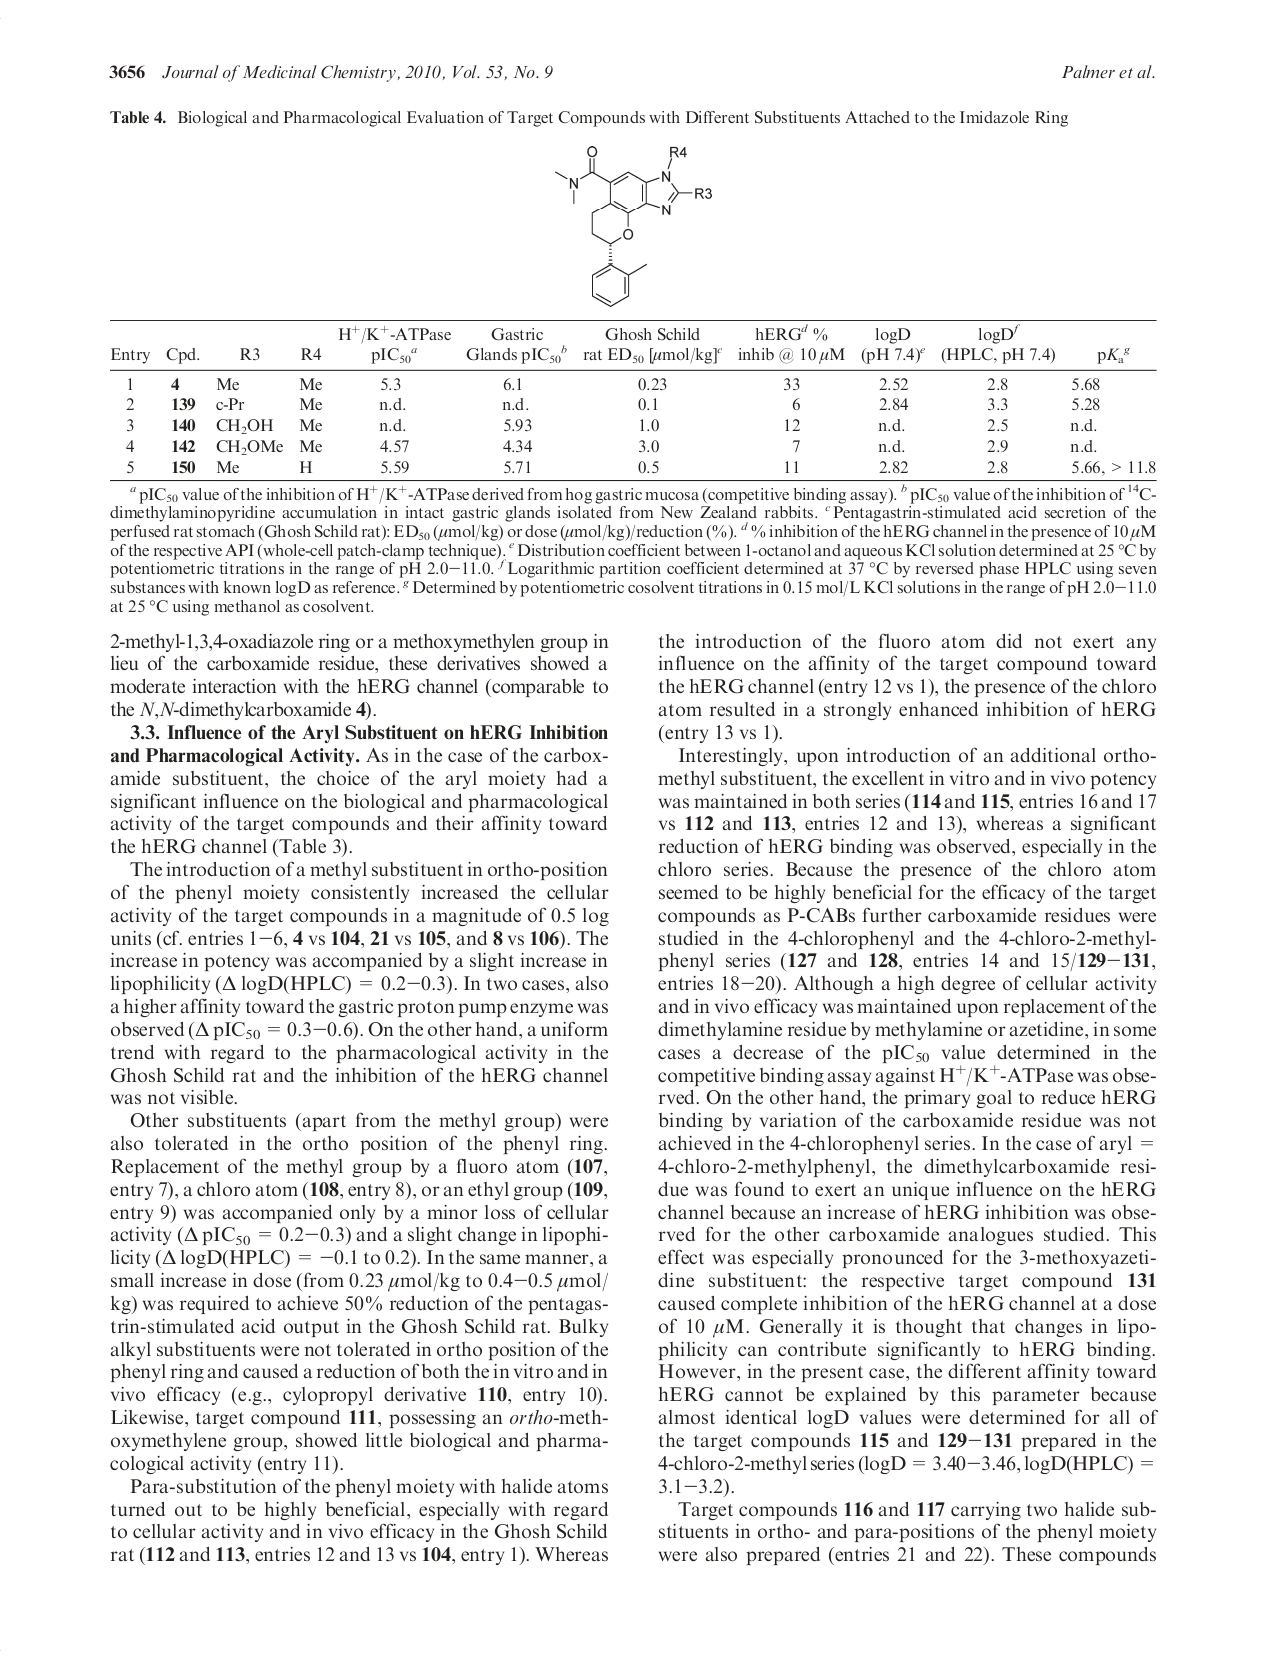exist_molecular: (548, 136, 729, 311)
